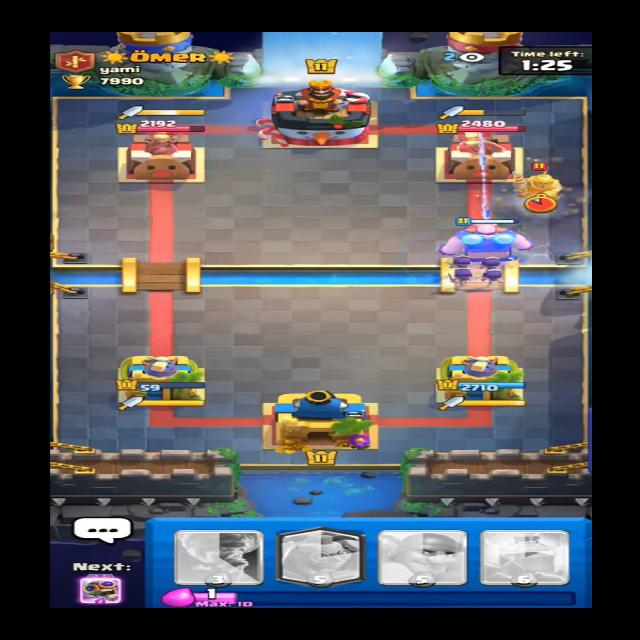prince: (506, 161, 566, 212)
